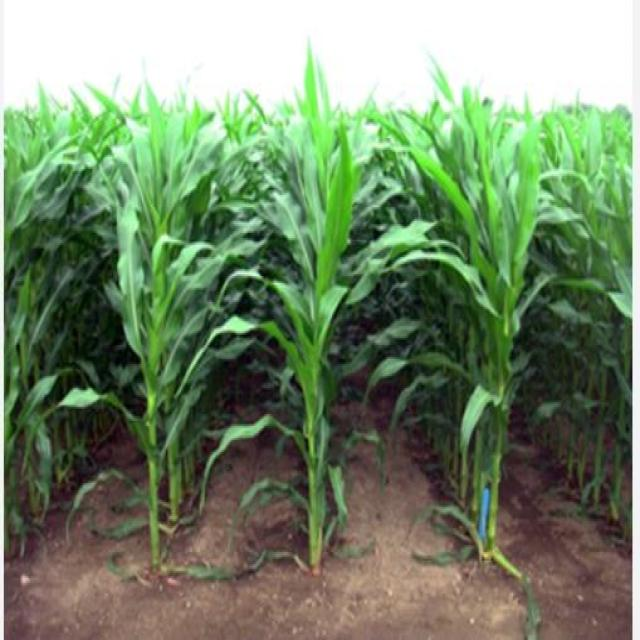row: (465, 382, 625, 580), (336, 390, 487, 586), (174, 388, 296, 571), (19, 390, 146, 559)
